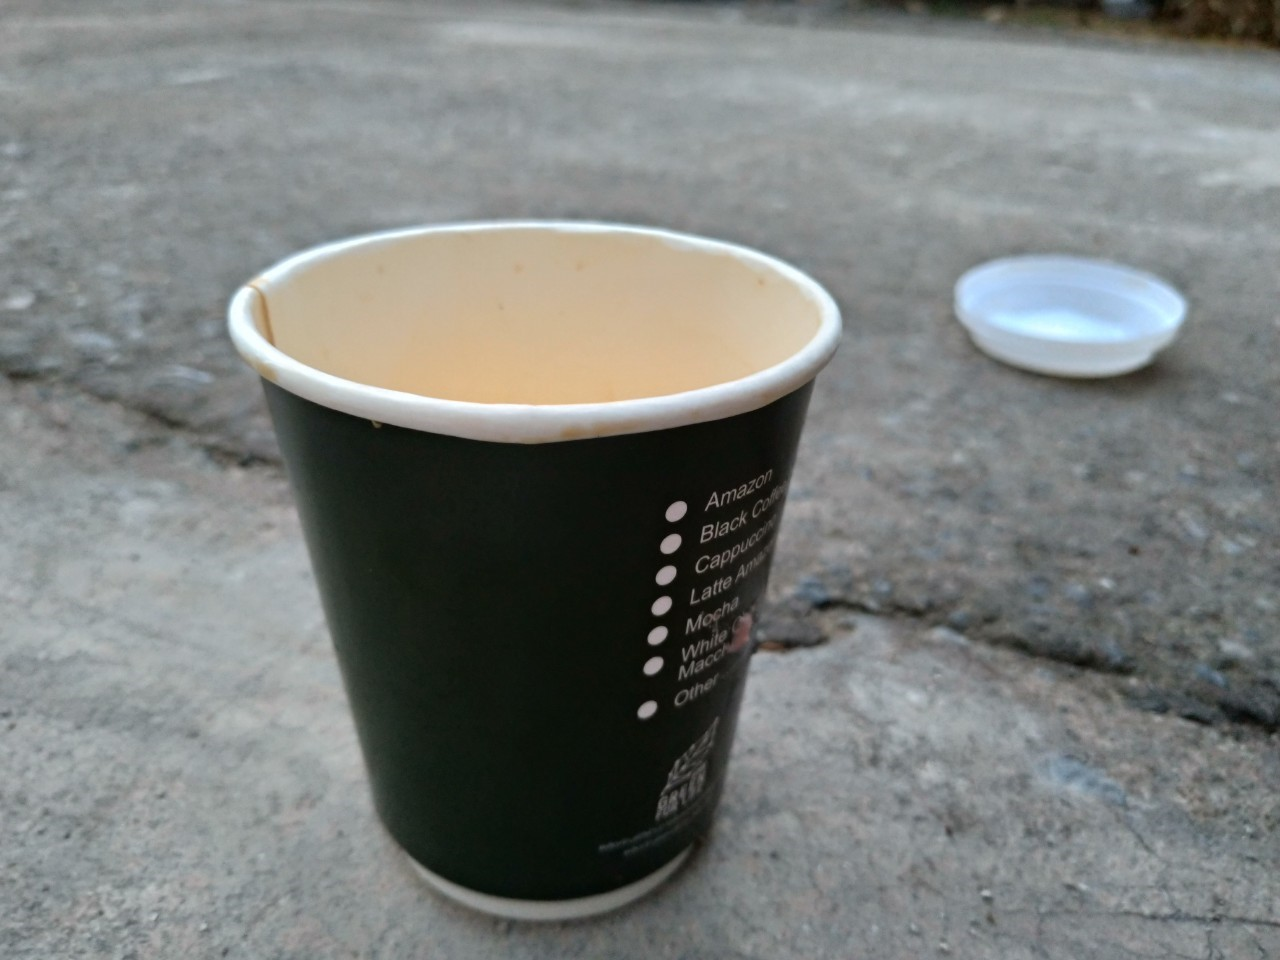PaperCup: (224, 219, 840, 919)
